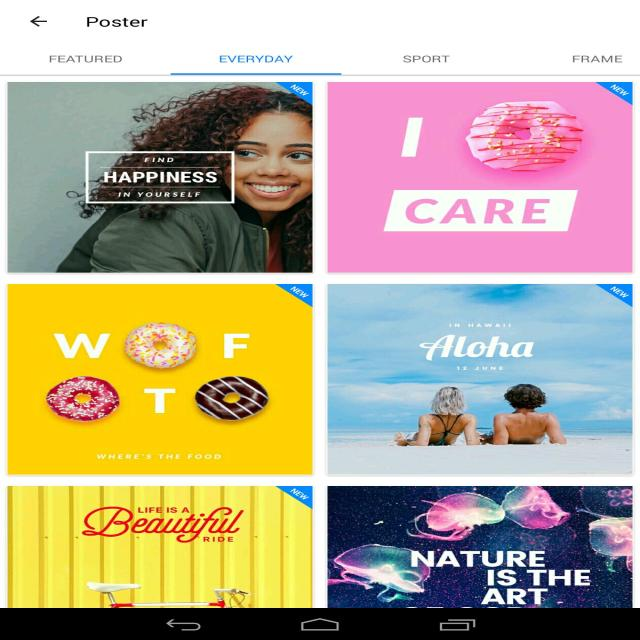button: (172, 45, 337, 74), (508, 41, 637, 74), (14, 44, 150, 74), (356, 42, 472, 74), (18, 8, 56, 33)
heading: (82, 10, 156, 34)
image: (5, 284, 312, 476), (328, 82, 634, 273), (327, 286, 634, 476), (5, 84, 313, 272), (326, 484, 636, 610), (8, 484, 312, 608)
text: (215, 51, 298, 66), (564, 50, 625, 67), (45, 53, 128, 65), (397, 52, 455, 66)
